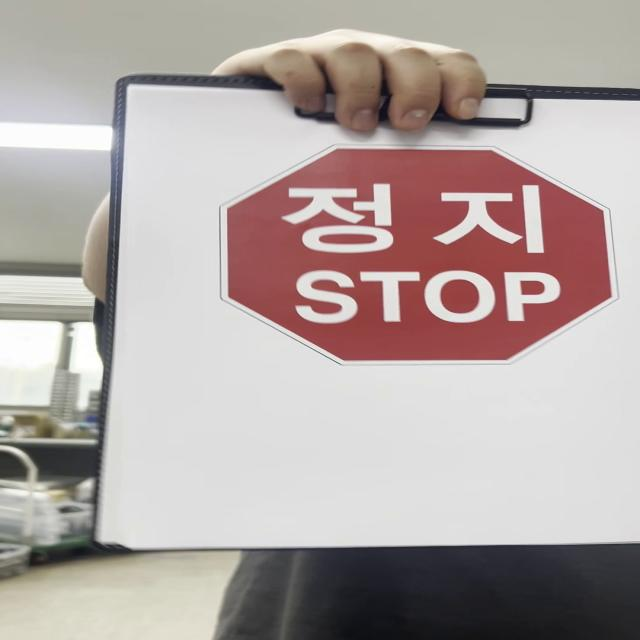stop: (217, 144, 616, 368)
